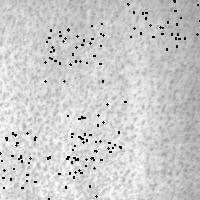pitted_surface: (2, 2, 195, 197), (66, 101, 124, 161), (44, 23, 102, 80), (38, 150, 95, 200), (126, 0, 184, 37), (0, 130, 34, 187), (166, 0, 200, 48)
